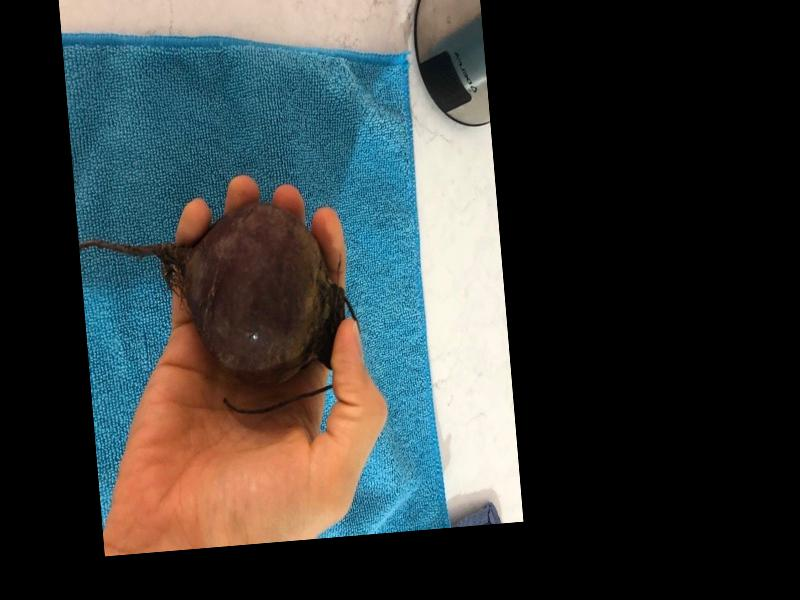Beet: (76, 194, 365, 426)
